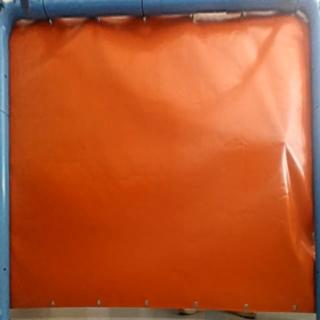Hit-hRxx: (274, 138, 292, 152)
